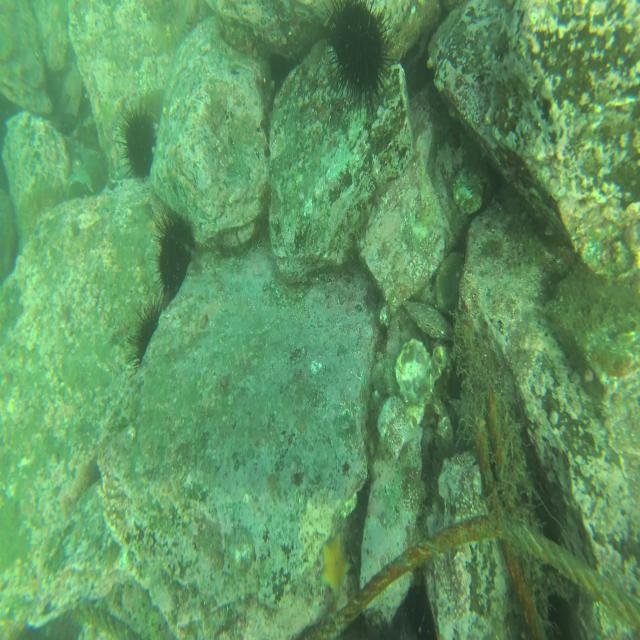echinus: (326, 0, 393, 119), (110, 100, 161, 182), (148, 210, 194, 296), (16, 182, 62, 238), (128, 300, 162, 374)
scallop: (394, 332, 439, 403), (452, 162, 484, 216)
starfish: (319, 535, 353, 597)
